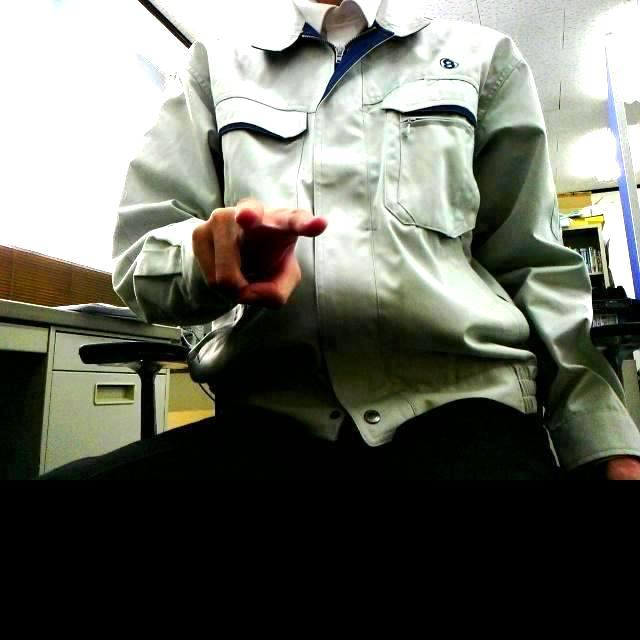tyoki: (192, 202, 327, 307)
